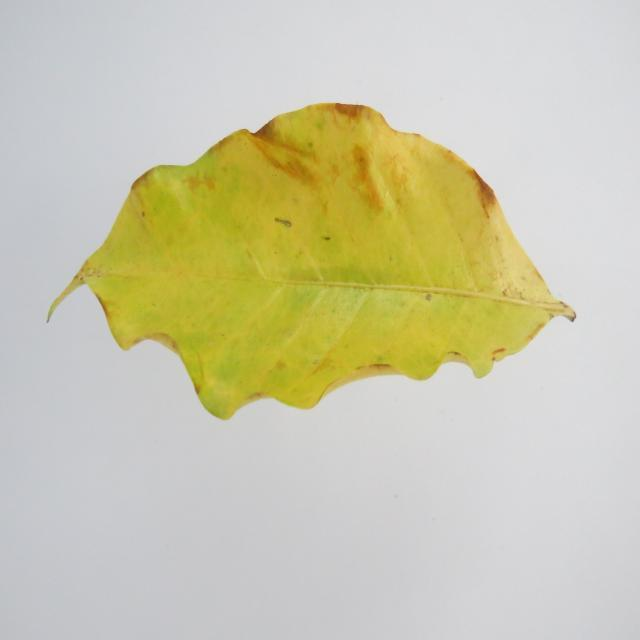DeficienciaNutricional-Calcio: (48, 103, 575, 418)
